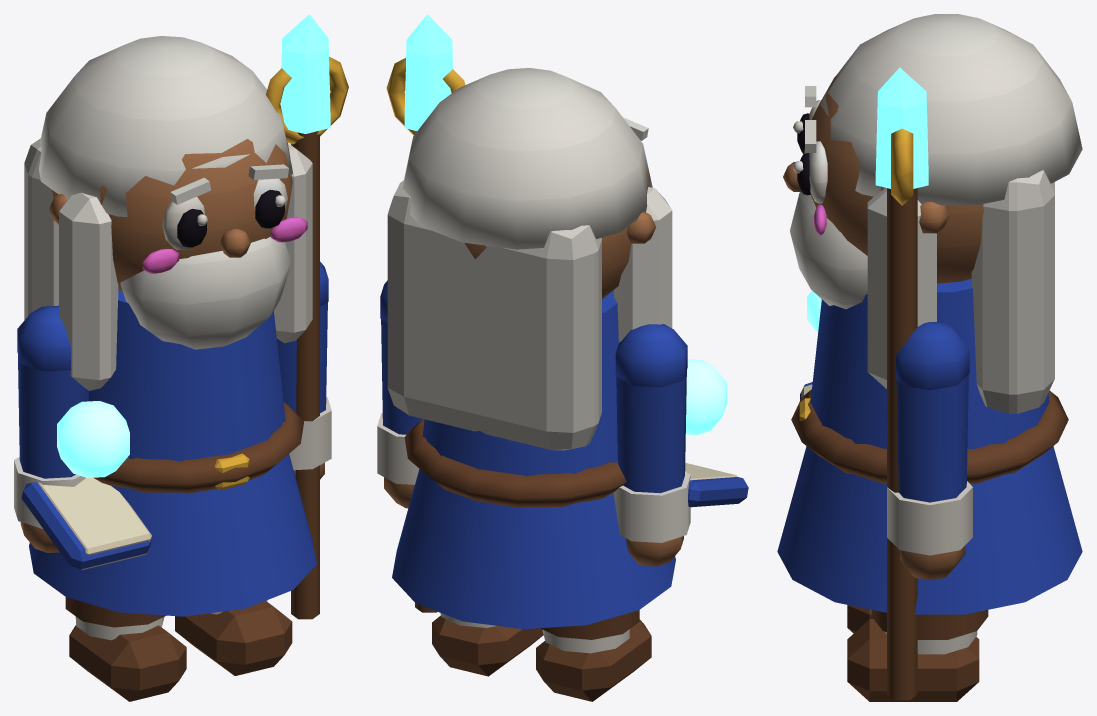
Rendered from hero_ezra.glb.
3 views of the same model, side by side, from view 1: azimuth 30°, elevation 25°; view 2: azimuth 150°, elevation 25°; view 3: azimuth 270°, elevation 25° (orthographic). The views are drawn at different scales.
Parts seen in each view (by area): view 1: body_t0_palette, arml_t0_palette, armr_t0_palette, legl_t0_palette, legr_t0_palette, armr_t0_crystal_teal, arml_t0_rune; view 2: body_t0_palette, arml_t0_palette, legl_t0_palette, armr_t0_palette, legr_t0_palette, armr_t0_crystal_teal, arml_t0_rune; view 3: body_t0_palette, armr_t0_palette, legr_t0_palette, armr_t0_crystal_teal, legl_t0_palette.
Boxes of the visible parts, box(x1,y1,x2,y2) form: body_t0_palette: box(24, 36, 316, 616); arml_t0_palette: box(14, 305, 151, 569); armr_t0_palette: box(266, 56, 348, 619); legl_t0_palette: box(65, 597, 186, 701); legr_t0_palette: box(175, 600, 292, 675); armr_t0_crystal_teal: box(280, 14, 330, 133); arml_t0_rune: box(57, 401, 129, 477); body_t0_palette: box(387, 68, 675, 629); arml_t0_palette: box(613, 324, 748, 566); legl_t0_palette: box(536, 610, 651, 701); armr_t0_palette: box(377, 58, 465, 612); legr_t0_palette: box(432, 613, 543, 676); armr_t0_crystal_teal: box(404, 14, 452, 130); arml_t0_rune: box(685, 359, 726, 435); body_t0_palette: box(777, 14, 1082, 614); armr_t0_palette: box(887, 128, 972, 700); legr_t0_palette: box(847, 610, 988, 701); armr_t0_crystal_teal: box(875, 67, 928, 188); legl_t0_palette: box(847, 605, 873, 633).
Bounding box in the file's own units: 0.281 × 0.525 × 0.22.
